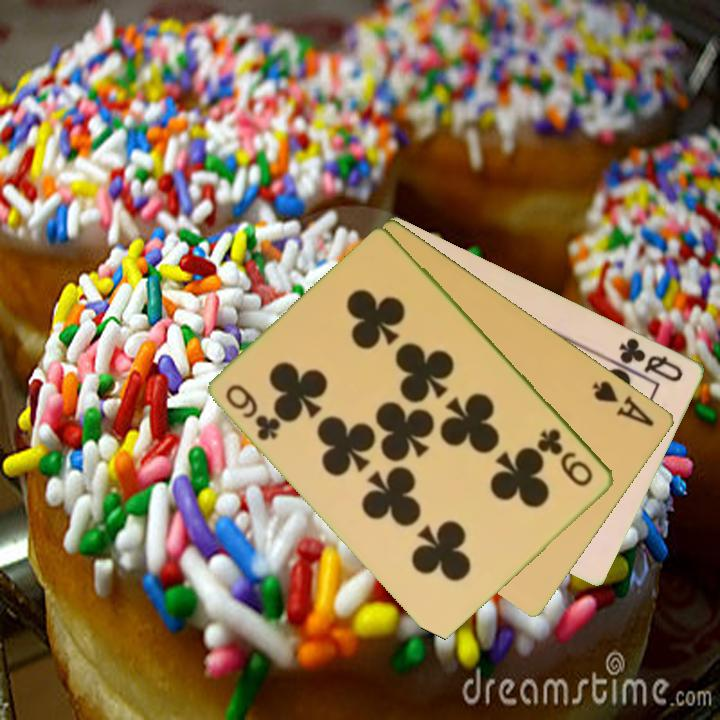9c: (535, 425, 597, 490), (222, 380, 284, 444)
As: (589, 376, 658, 429)
Qc: (608, 334, 687, 385)
